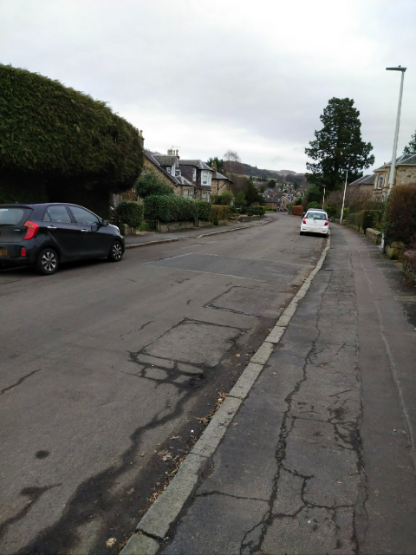car: (0, 199, 131, 275), (294, 205, 335, 239)
tree: (304, 75, 375, 188)
